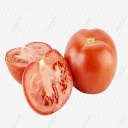tomato: (65, 28, 117, 94), (23, 49, 73, 114), (5, 43, 57, 83)
